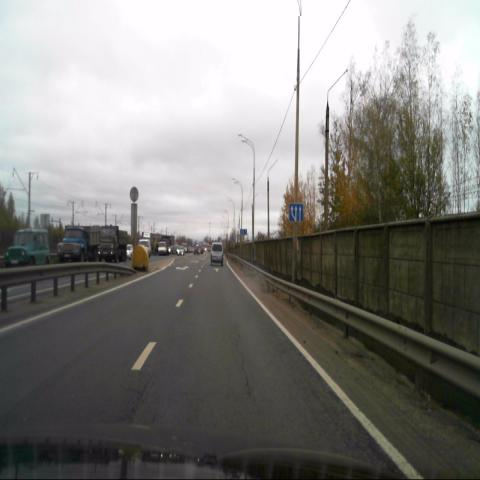5_15_2_2: (289, 203, 303, 222)
